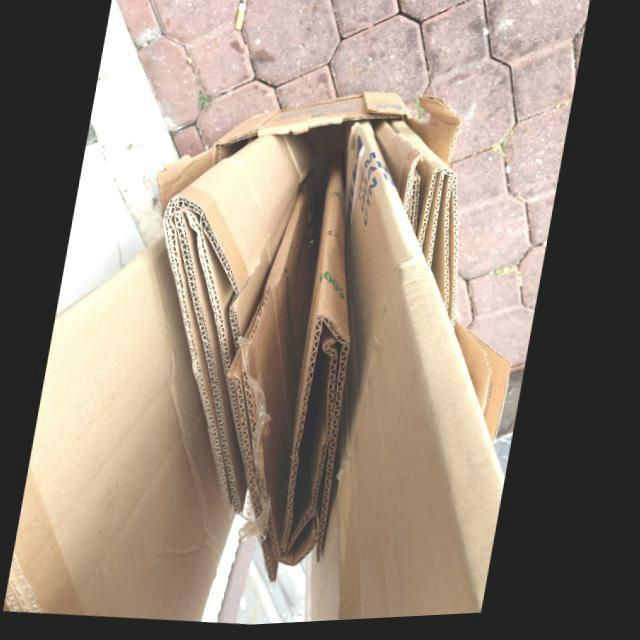cardboard: (316, 125, 512, 626), (13, 241, 243, 624), (166, 134, 315, 522), (232, 161, 356, 584), (376, 123, 462, 324), (458, 320, 517, 445)
